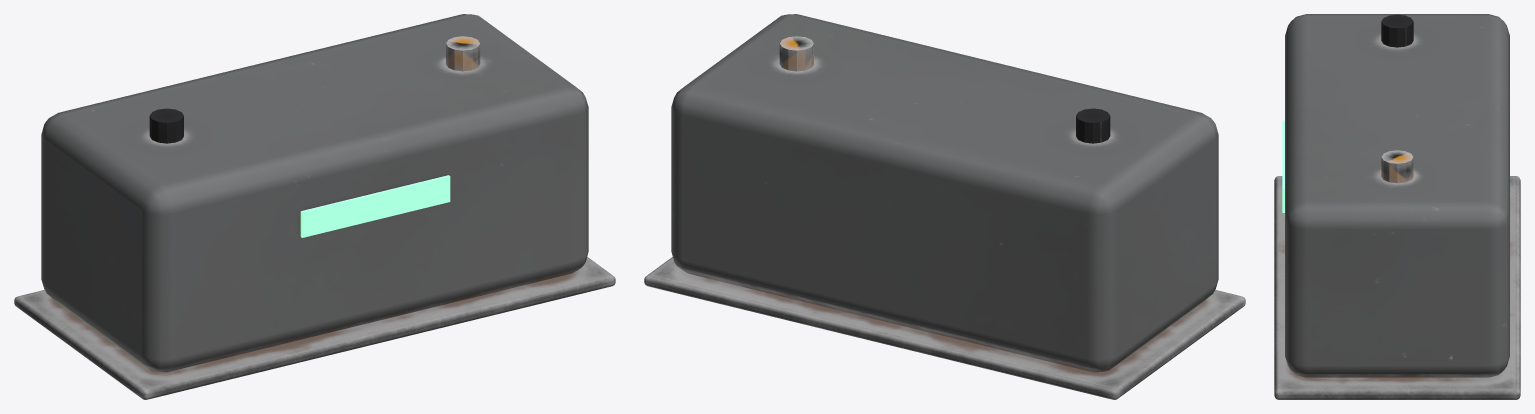
File: SM_PartBattery.glb
3 renders of one model, left to right at view 1: azimuth 30°, elevation 25°; view 2: azimuth 150°, elevation 25°; view 3: azimuth 270°, elevation 25°, orthographic. The views are drawn at different scales.
Visible parts, largest first — view 1: SM_PartBattery; view 2: SM_PartBattery; view 3: SM_PartBattery.
Part boxes in pixels (box(x1,y1,x2,y2)): SM_PartBattery: box(14, 14, 615, 399); SM_PartBattery: box(644, 14, 1245, 399); SM_PartBattery: box(1274, 14, 1520, 399).
Size of the model in its own units: 0.96 by 0.42 by 0.46.
5 materials, 4 textured.
